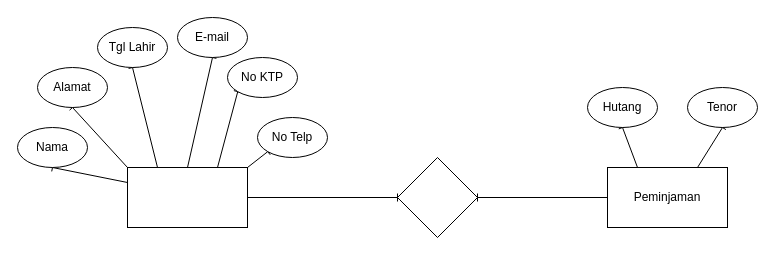
Image size: 775x255. Some labels were removed from this diagram. The shapes that lost their labels are listed below. From the top down, each one's centre as x and y in pixels, then its label:
the point at 187,197: Nasabah
the point at 437,197: Transaksi
